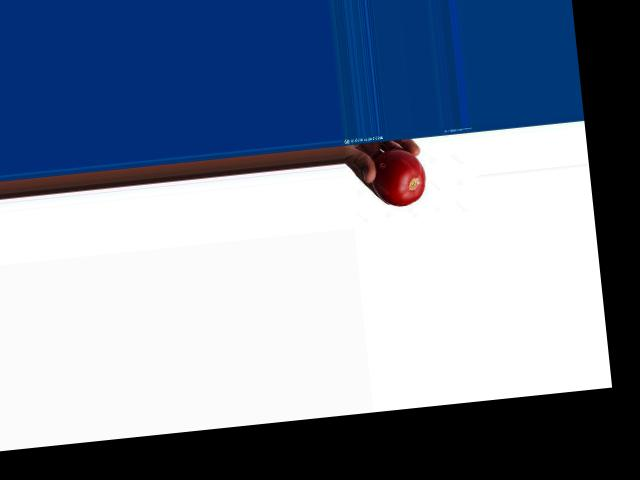tomato: (368, 146, 428, 208)
